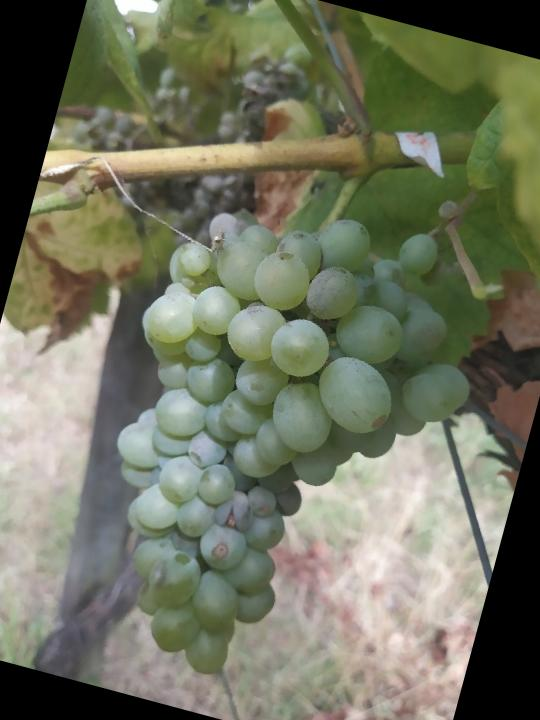grape: (52, 167, 514, 720)
